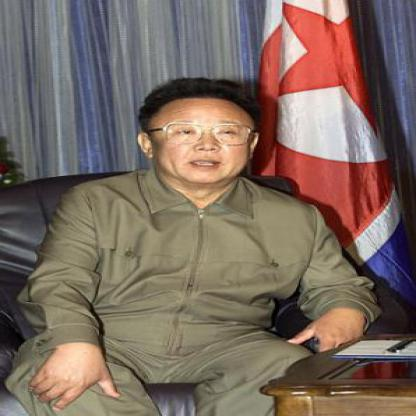face: (151, 85, 259, 185)
